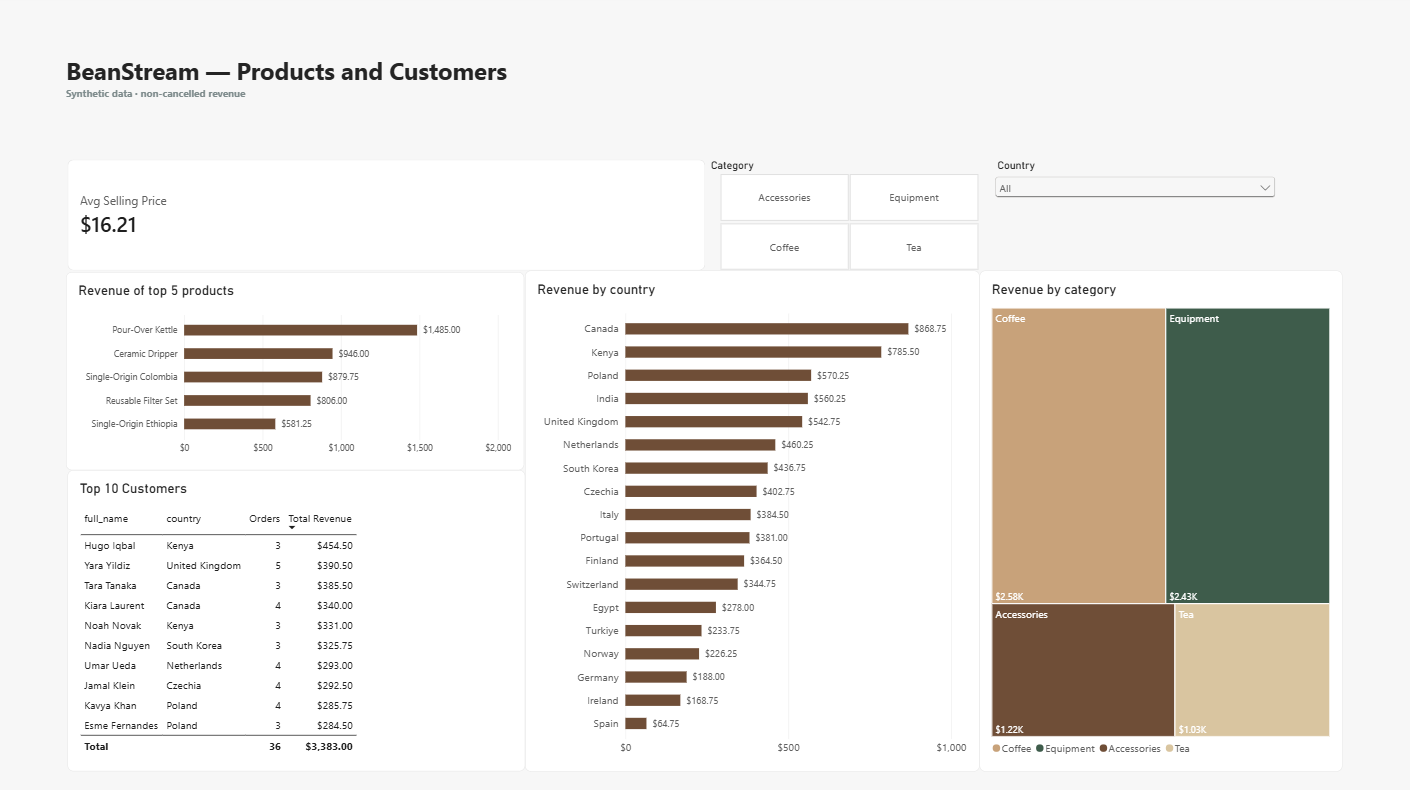

Layout of this report page (visuals, bound fields, positions):
{"tool":"powerbi","page":{"name":"Products & Customers","canvas":[1920,1080],"ordinal":2},"visuals":[{"type":"textbox","box":[97.3,82.5,1724.5,132.7],"z":0},{"type":"cardVisual","fields":{"Data":["fact_sales.Avg Selling Price"]},"box":[98.6,224.9,862.5,150.9],"z":1},{"type":"slicer","fields":{"Values":["dim_customer.country"]},"box":[1349.1,224.9,388.1,150.9],"z":2},{"type":"slicer","fields":{"Values":["dim_product.category"]},"box":[961,224.9,388.1,150.9],"z":3},{"type":"clusteredBarChart","title":"Revenue of top 5 products","fields":{"Category":["dim_product.product_name"],"Y":["fact_sales.Total Revenue"]},"box":[97.3,376.8,619.1,268],"z":4},{"type":"treemap","title":"Revenue by category","fields":{"Group":["dim_product.category"],"Values":["fact_sales.Total Revenue"]},"box":[1349.1,375.8,569.8,653],"z":5},{"type":"clusteredBarChart","title":"Revenue by country","fields":{"Category":["dim_customer.country"],"Y":["fact_sales.Total Revenue"]},"box":[717.7,375.8,631.4,653],"z":6},{"type":"tableEx","fields":{"Values":["dim_customer.full_name","dim_customer.country","fact_sales.Orders","fact_sales.Total Revenue"]},"box":[98.6,643.8,619.1,385],"z":7}]}

Visuals, with their boxes in screenshot pixels (x1, y1, x2, y2), scaled from the page's 1920x1080 canvas onto the 1410x790 screenshot:
textbox: bbox=[71, 60, 1338, 157]
cardVisual - fact_sales.Avg Selling Price: bbox=[72, 165, 706, 275]
slicer - dim_customer.country: bbox=[991, 165, 1276, 275]
slicer - dim_product.category: bbox=[706, 165, 991, 275]
"Revenue of top 5 products" clusteredBarChart: bbox=[71, 276, 526, 472]
"Revenue by category" treemap: bbox=[991, 275, 1409, 753]
"Revenue by country" clusteredBarChart: bbox=[527, 275, 991, 753]
tableEx - dim_customer.full_name x dim_customer.country: bbox=[72, 471, 527, 753]
